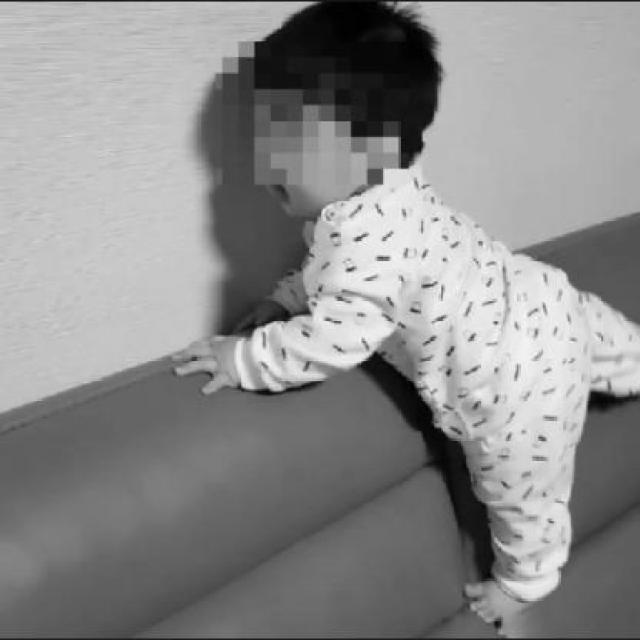child: (163, 3, 640, 640)
